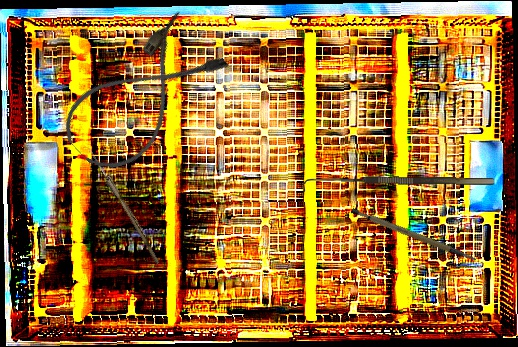Cannula: (51, 7, 234, 186)
Hook Surgical: (303, 174, 494, 196)
Scalpel Handle: (349, 192, 478, 281)
Surgical Spoon: (85, 146, 163, 265)
